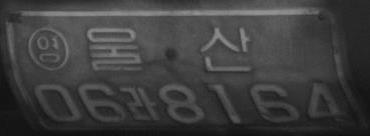0: (34, 82, 80, 122)
1: (204, 81, 245, 124)
4: (306, 81, 348, 122)
6: (248, 81, 300, 125), (80, 81, 125, 123)
8: (161, 83, 204, 124)
라: (125, 84, 160, 121)
영: (27, 26, 68, 71)
울산_D: (86, 26, 252, 72)
